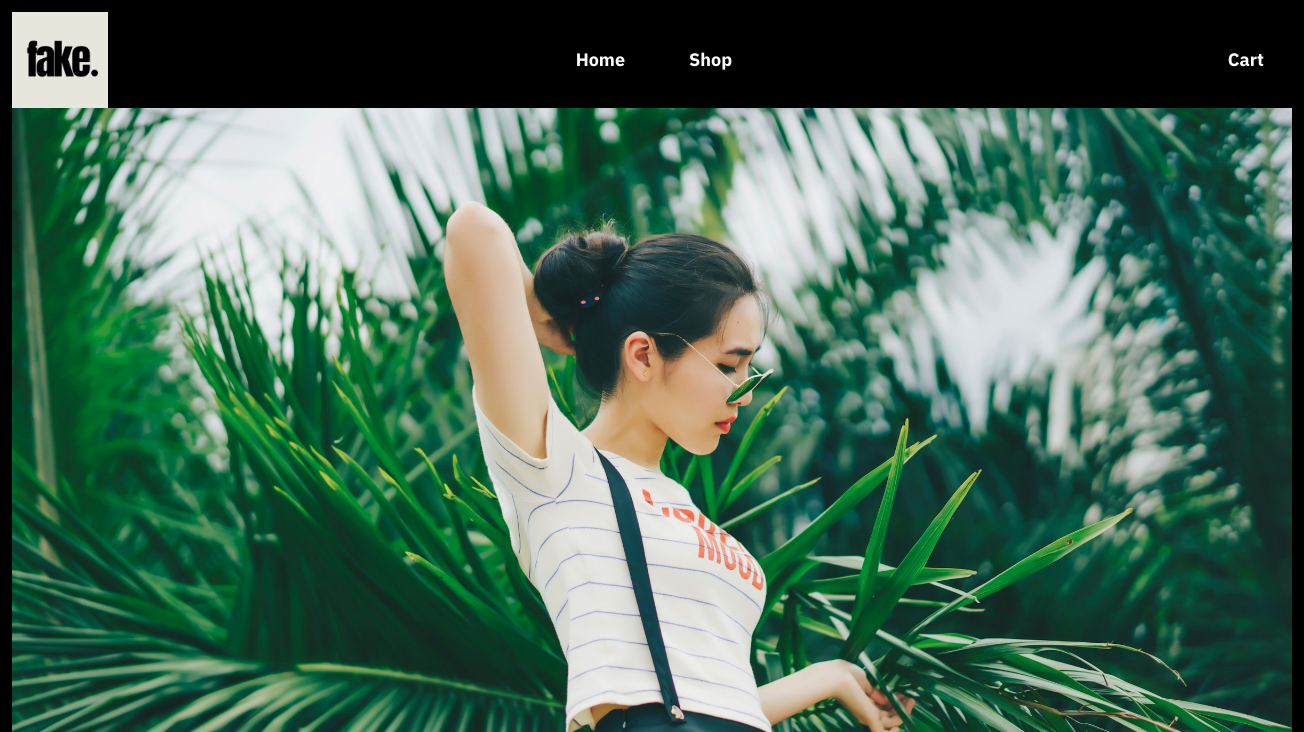
Test: hides cart when cart close button is clicked
Click the button "Cart": (1246, 60) left=1200, top=12, right=1292, bottom=108
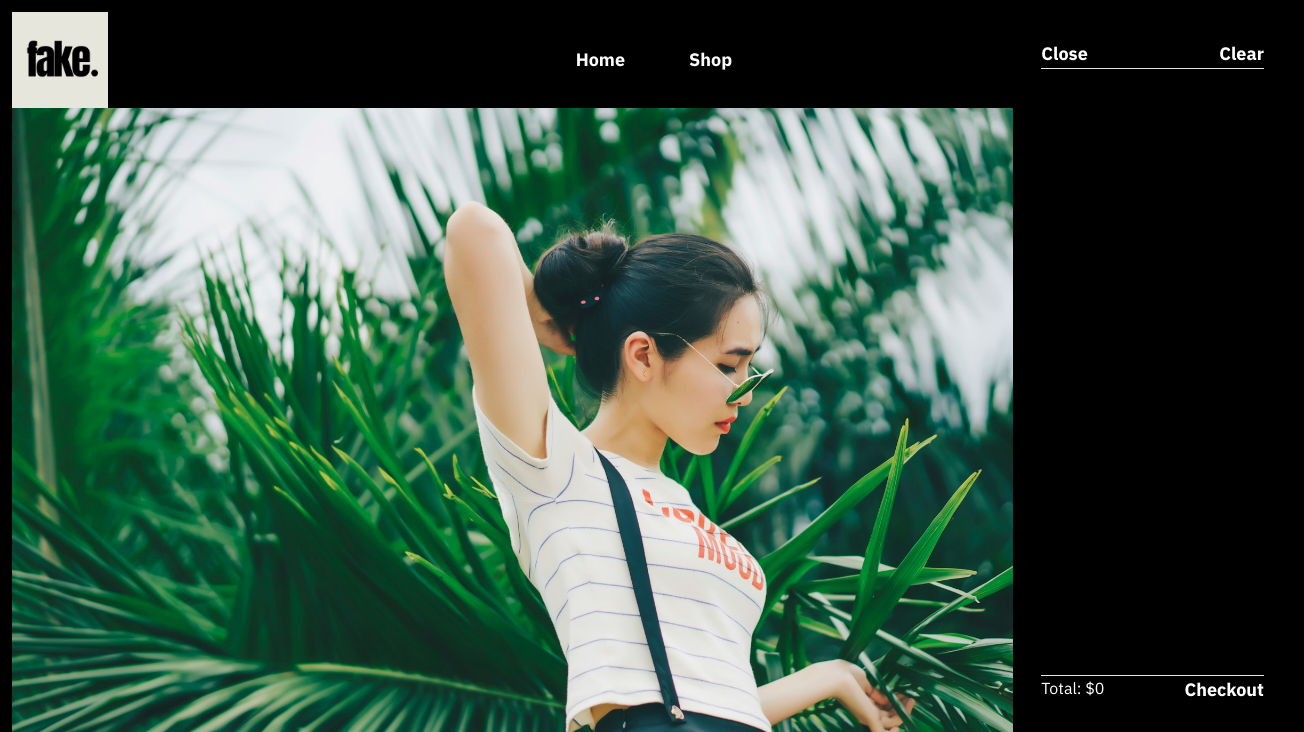
Click the button "Close": (1064, 54) left=1041, top=40, right=1088, bottom=68
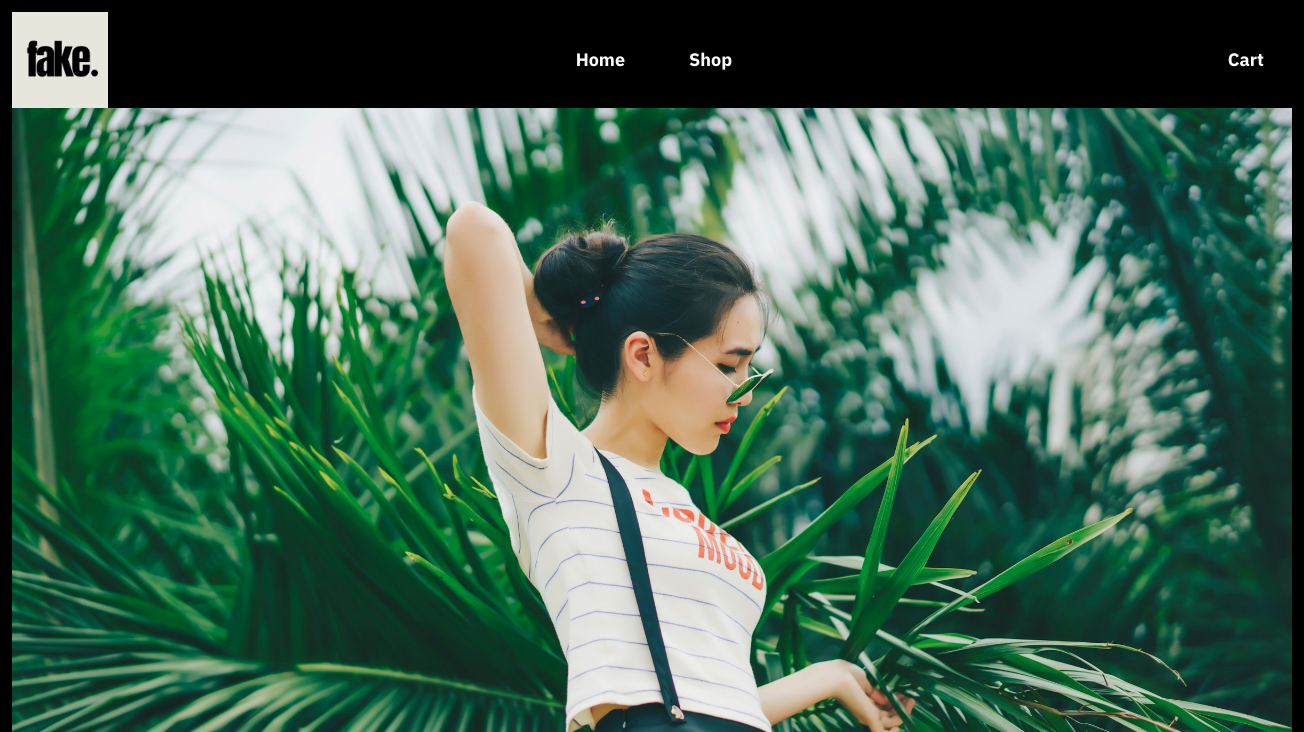
Now the element with test id "cart" is gone
